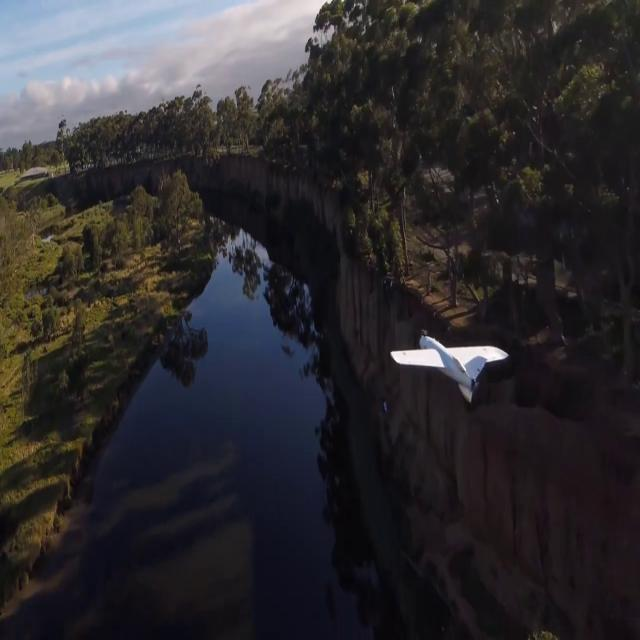iha: (419, 354, 480, 374)
